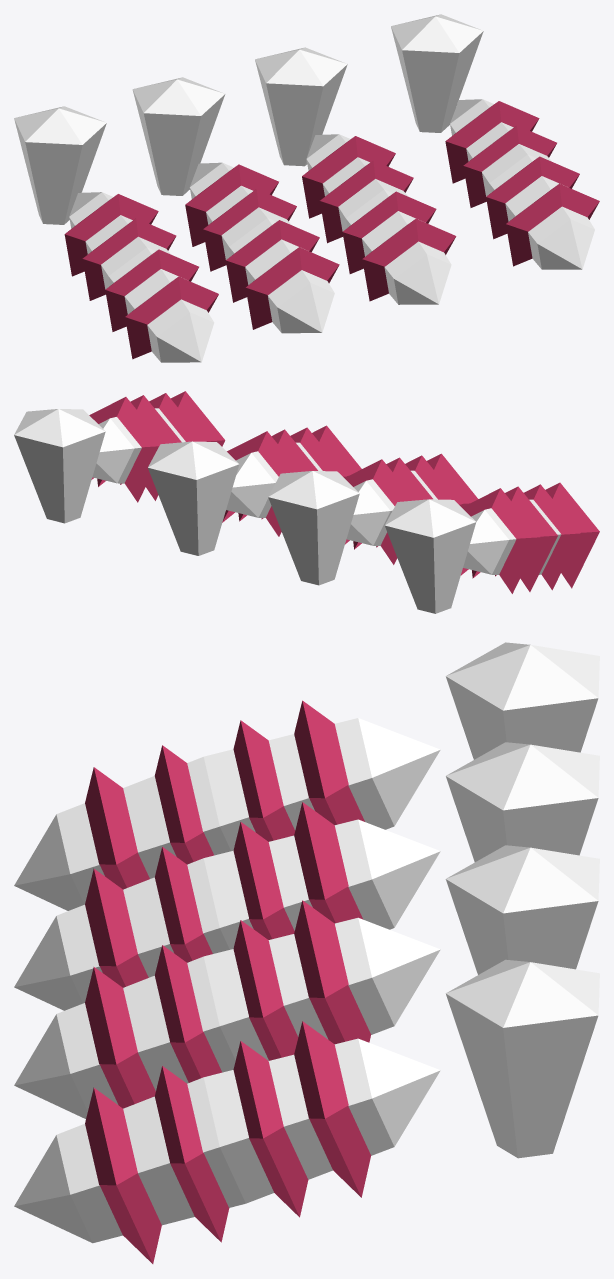
File: Kabel_Verbindung_834.glb
The picture shows the model from 3 angles, top to bottom: view 1: azimuth 30°, elevation 25°; view 2: azimuth 150°, elevation 25°; view 3: azimuth 270°, elevation 25°; orthographic projection. The views are drawn at different scales.
Visible parts, largest first — view 1: pSphereShape5, pSphereShape7, pSphereShape6, pSphereShape11, pSphereShape4, pSphereShape9, pSphereShape10, pSphereShape8, pTorusShape17, pTorusShape21, pTorusShape13, pTorusShape9 (+12 smaller); view 2: pSphereShape6, pSphereShape8, pSphereShape5, pSphereShape7, pTorusShape18, pSphereShape11, pSphereShape9, pTorusShape6, pSphereShape4, pSphereShape10, pTorusShape21, pTorusShape20 (+12 smaller); view 3: pSphereShape4, pSphereShape9, pSphereShape11, pSphereShape10, pSphereShape5, pSphereShape8, pSphereShape7, pSphereShape6, pTorusShape6, pTorusShape9, pTorusShape7, pTorusShape10 (+12 smaller).
Part boxes in pixels (x1,y1,x2,y2): pSphereShape5: [391, 14, 483, 132]; pSphereShape7: [132, 77, 225, 195]; pSphereShape6: [14, 106, 106, 224]; pSphereShape11: [69, 192, 214, 362]; pSphereShape4: [450, 99, 594, 269]; pSphereShape9: [306, 134, 451, 304]; pSphereShape10: [189, 162, 334, 333]; pSphereShape8: [255, 47, 347, 166]; pTorusShape17: [245, 247, 339, 329]; pTorusShape21: [125, 276, 218, 359]; pTorusShape13: [362, 219, 456, 301]; pTorusShape9: [506, 183, 599, 266]; pSphereShape6: [384, 499, 476, 613]; pSphereShape8: [148, 441, 239, 555]; pSphereShape5: [14, 409, 105, 523]; pSphereShape7: [268, 471, 359, 585]; pTorusShape18: [461, 488, 540, 593]; pSphereShape11: [463, 499, 561, 574]; pSphereShape9: [226, 442, 322, 517]; pTorusShape6: [89, 397, 163, 502]; pSphereShape4: [92, 408, 185, 483]; pSphereShape10: [346, 470, 437, 545]; pTorusShape21: [545, 482, 599, 588]; pTorusShape20: [495, 484, 580, 590]; pSphereShape4: [14, 1038, 440, 1243]; pSphereShape9: [14, 917, 440, 1118]; pSphereShape11: [14, 718, 440, 910]; pSphereShape10: [14, 819, 440, 1010]; pSphereShape5: [445, 959, 599, 1158]; pSphereShape8: [445, 845, 599, 974]; pSphereShape7: [446, 742, 599, 862]; pSphereShape6: [445, 642, 599, 759]; pTorusShape6: [294, 1021, 370, 1197]; pTorusShape9: [85, 1087, 161, 1263]; pTorusShape7: [233, 1041, 308, 1217]; pTorusShape10: [294, 900, 370, 1044].
Size of the model in its own units: 0.1557 by 0.0509 by 0.0964.
